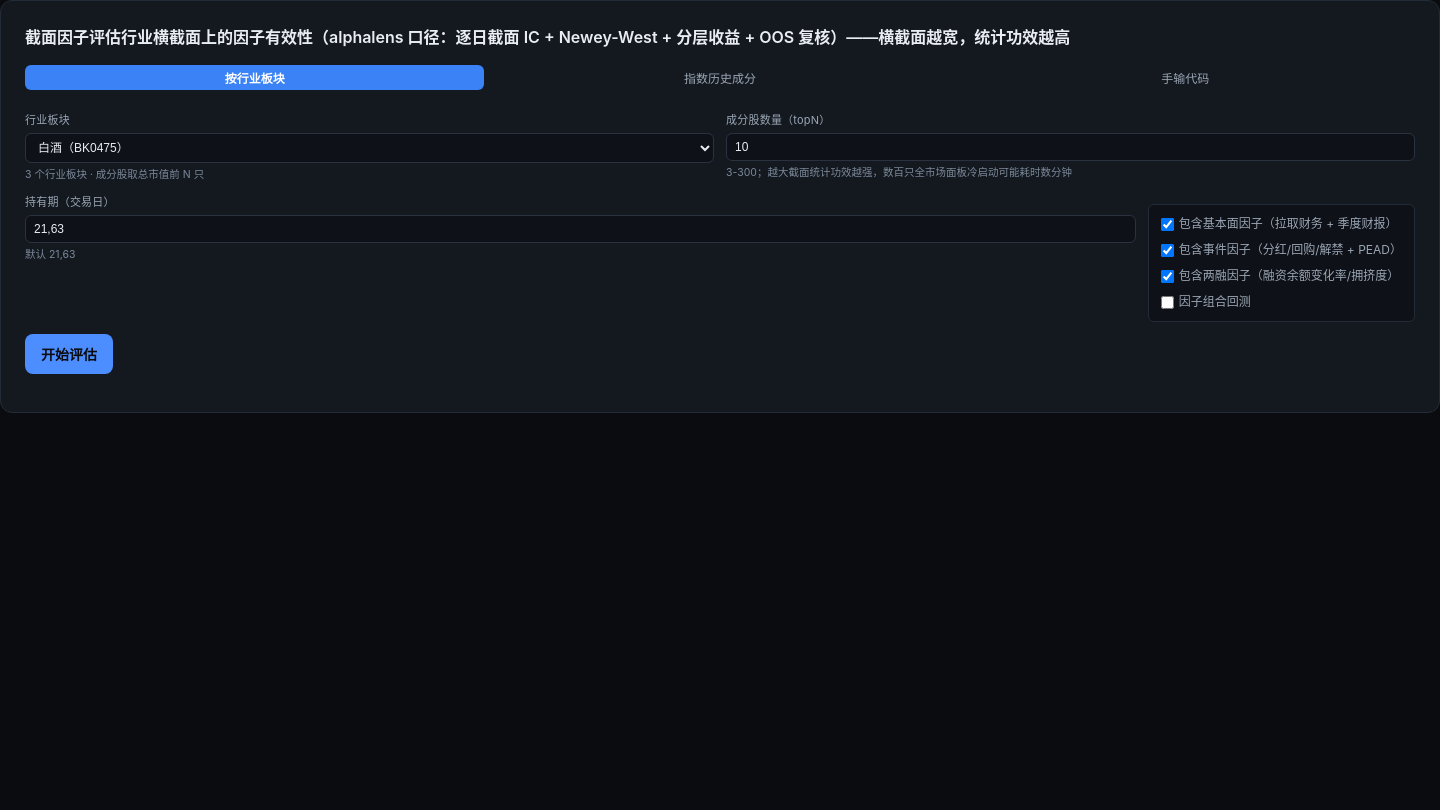
Test case: CrossSectionPanel —— 提交、加载态与取消 › 点击「取消评估」会 abort 在途请求、弹出成功提示且不显示错误横幅
Click the button "开始评估": [69, 354] box [25, 334, 113, 374]
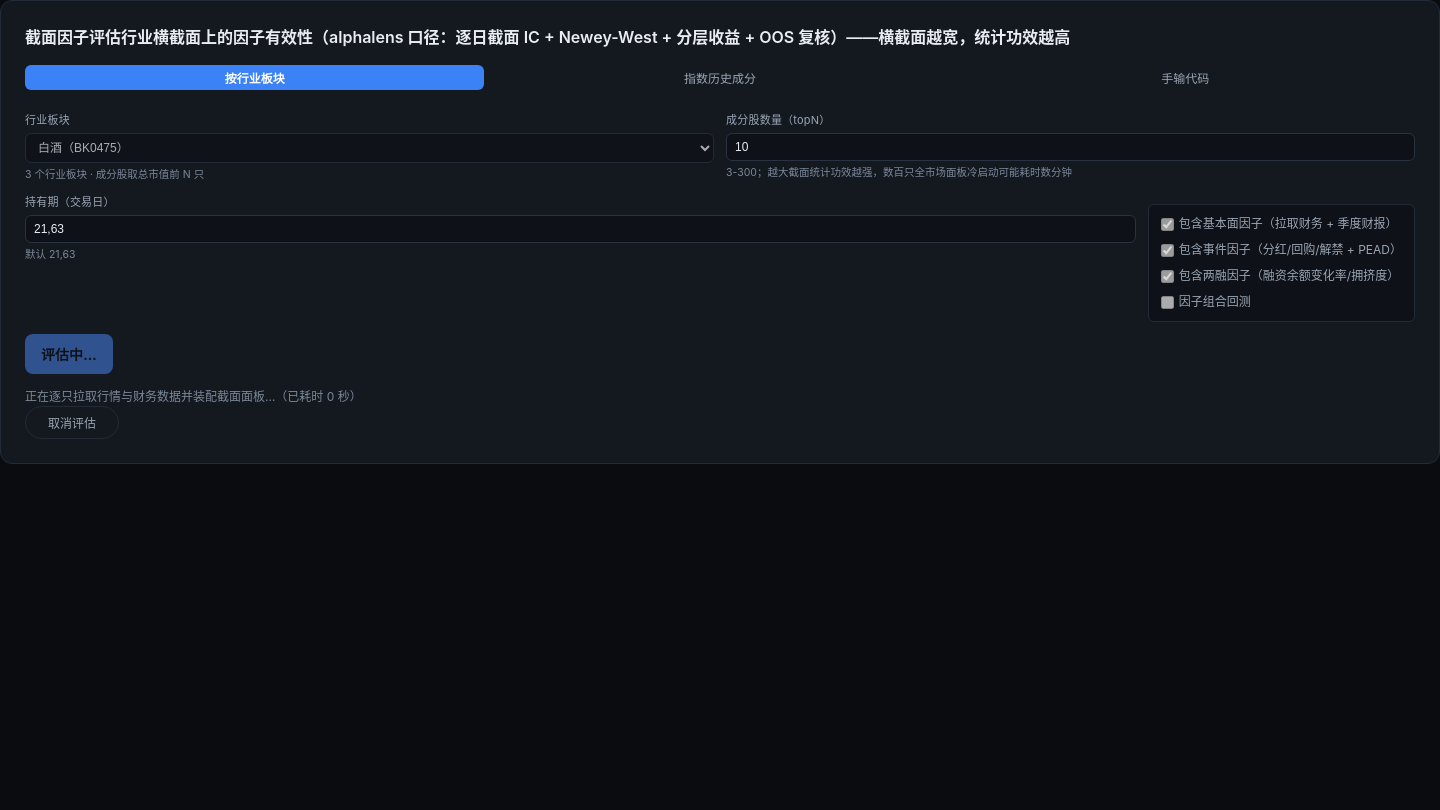
Click the button "取消评估": [72, 423] box [25, 406, 119, 439]
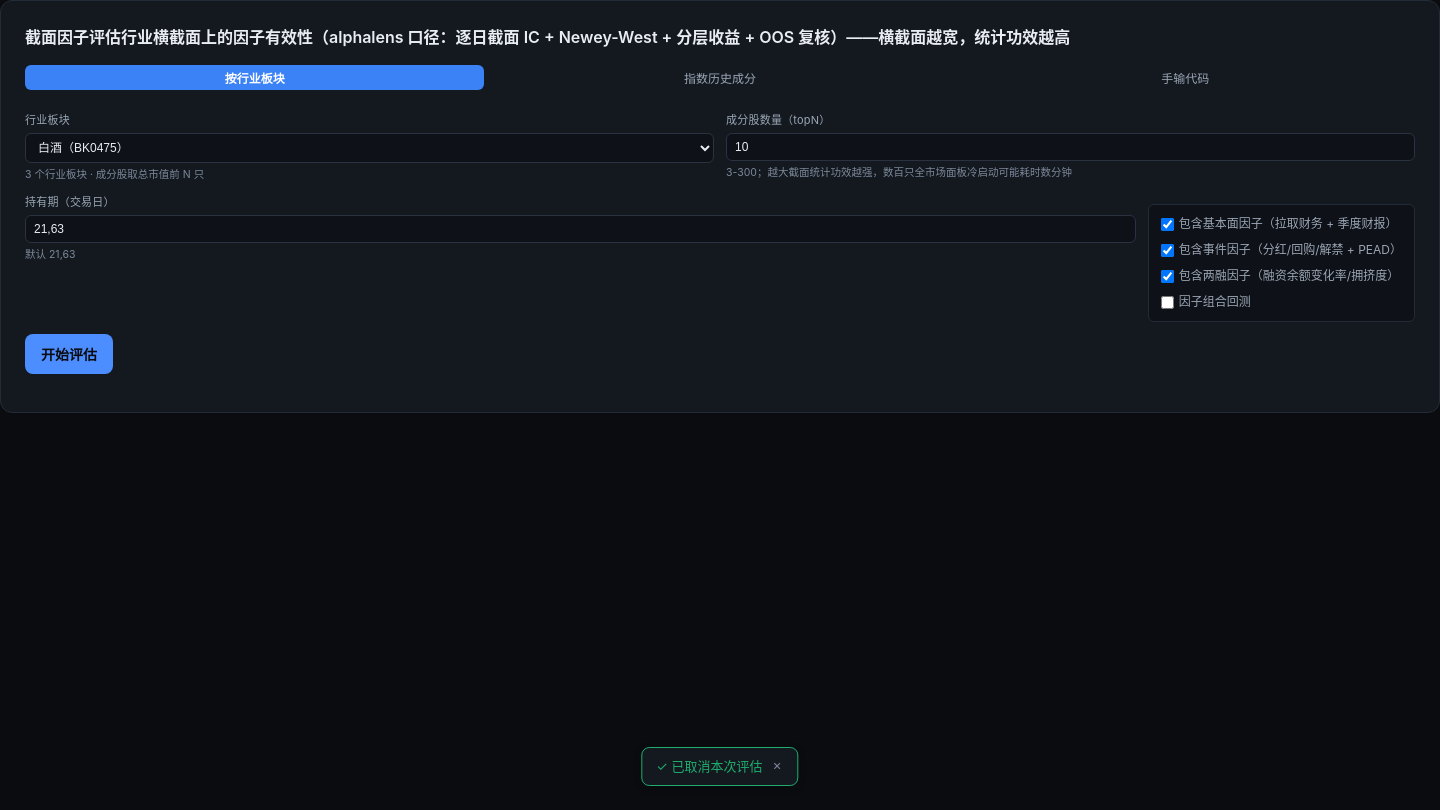
Now the button "开始评估" is enabled, box [25, 334, 113, 374]
